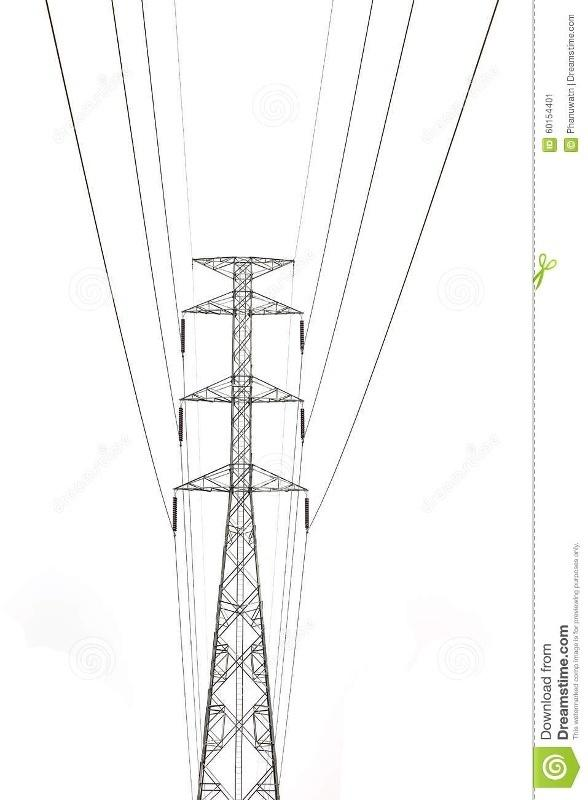power_tower: (152, 233, 321, 735)
